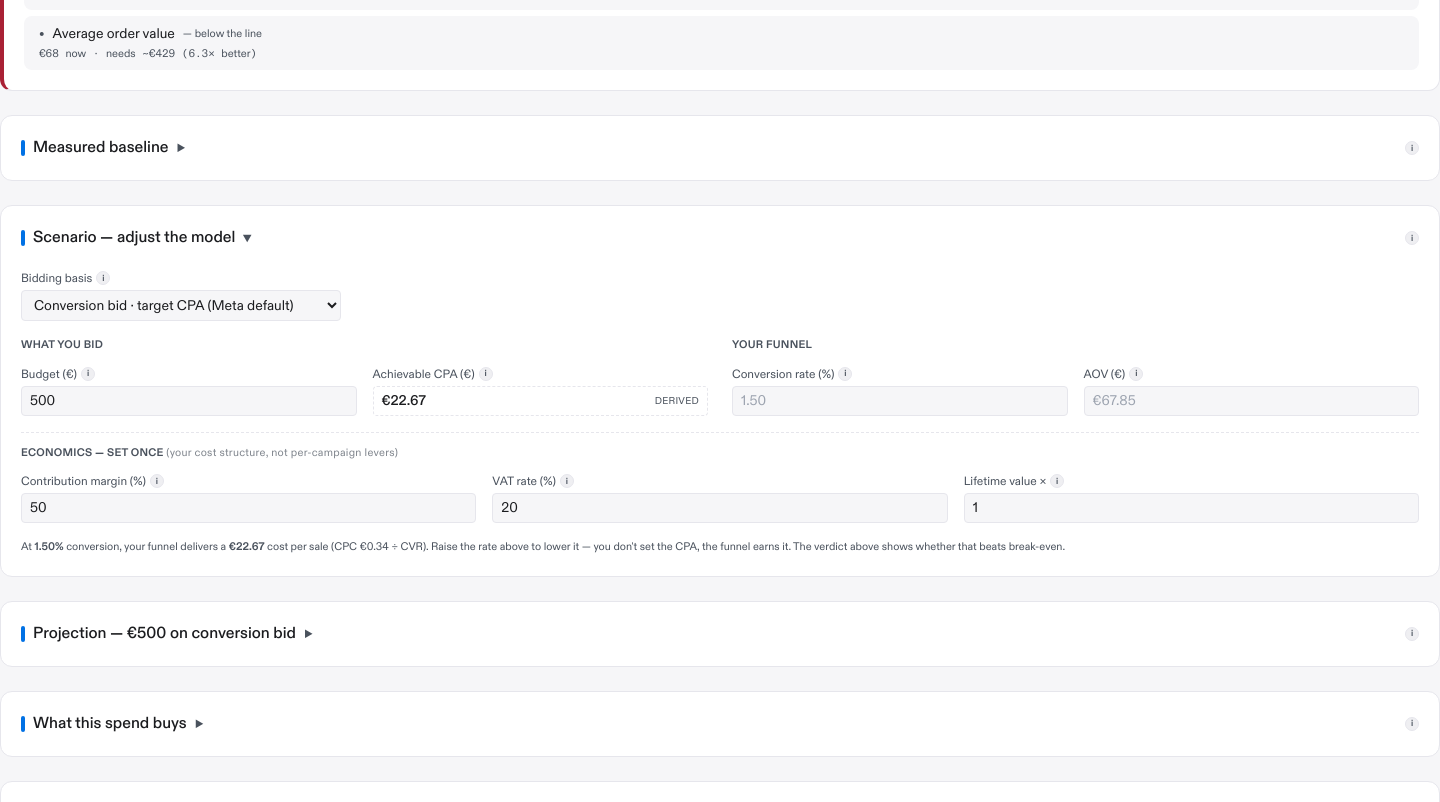
PaidPanel wiring › CVR override flows through and moves the projection (legibility line updates)
The image size is (1440, 802).
(page scrolled)
Type "2" into the field with placeholder "1.50".
click(900, 401); type("2")  # box x1=732 y1=386 x2=1068 y2=416
(page scrolled)
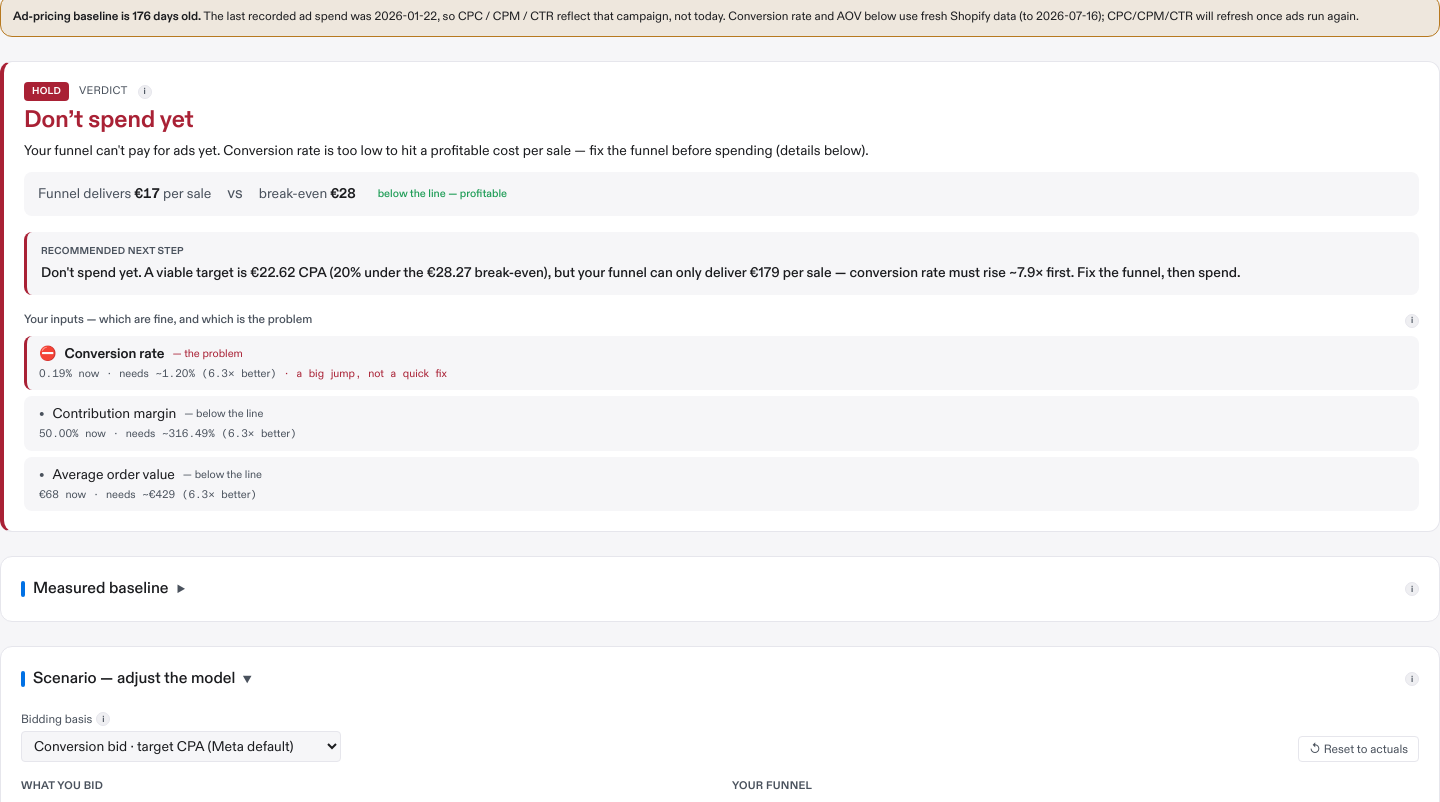
Check: the text "€17" is shown, box x1=135 y1=184 x2=160 y2=203
